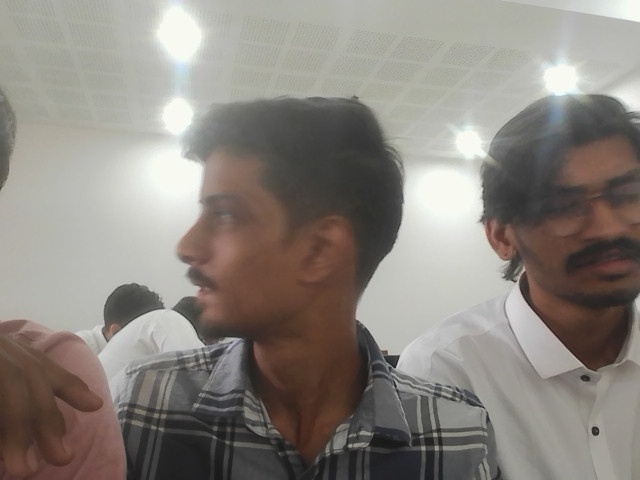light_on: (130, 11, 228, 153), (530, 56, 587, 102), (446, 118, 491, 159)
person: (10, 84, 486, 478), (396, 94, 639, 478)
